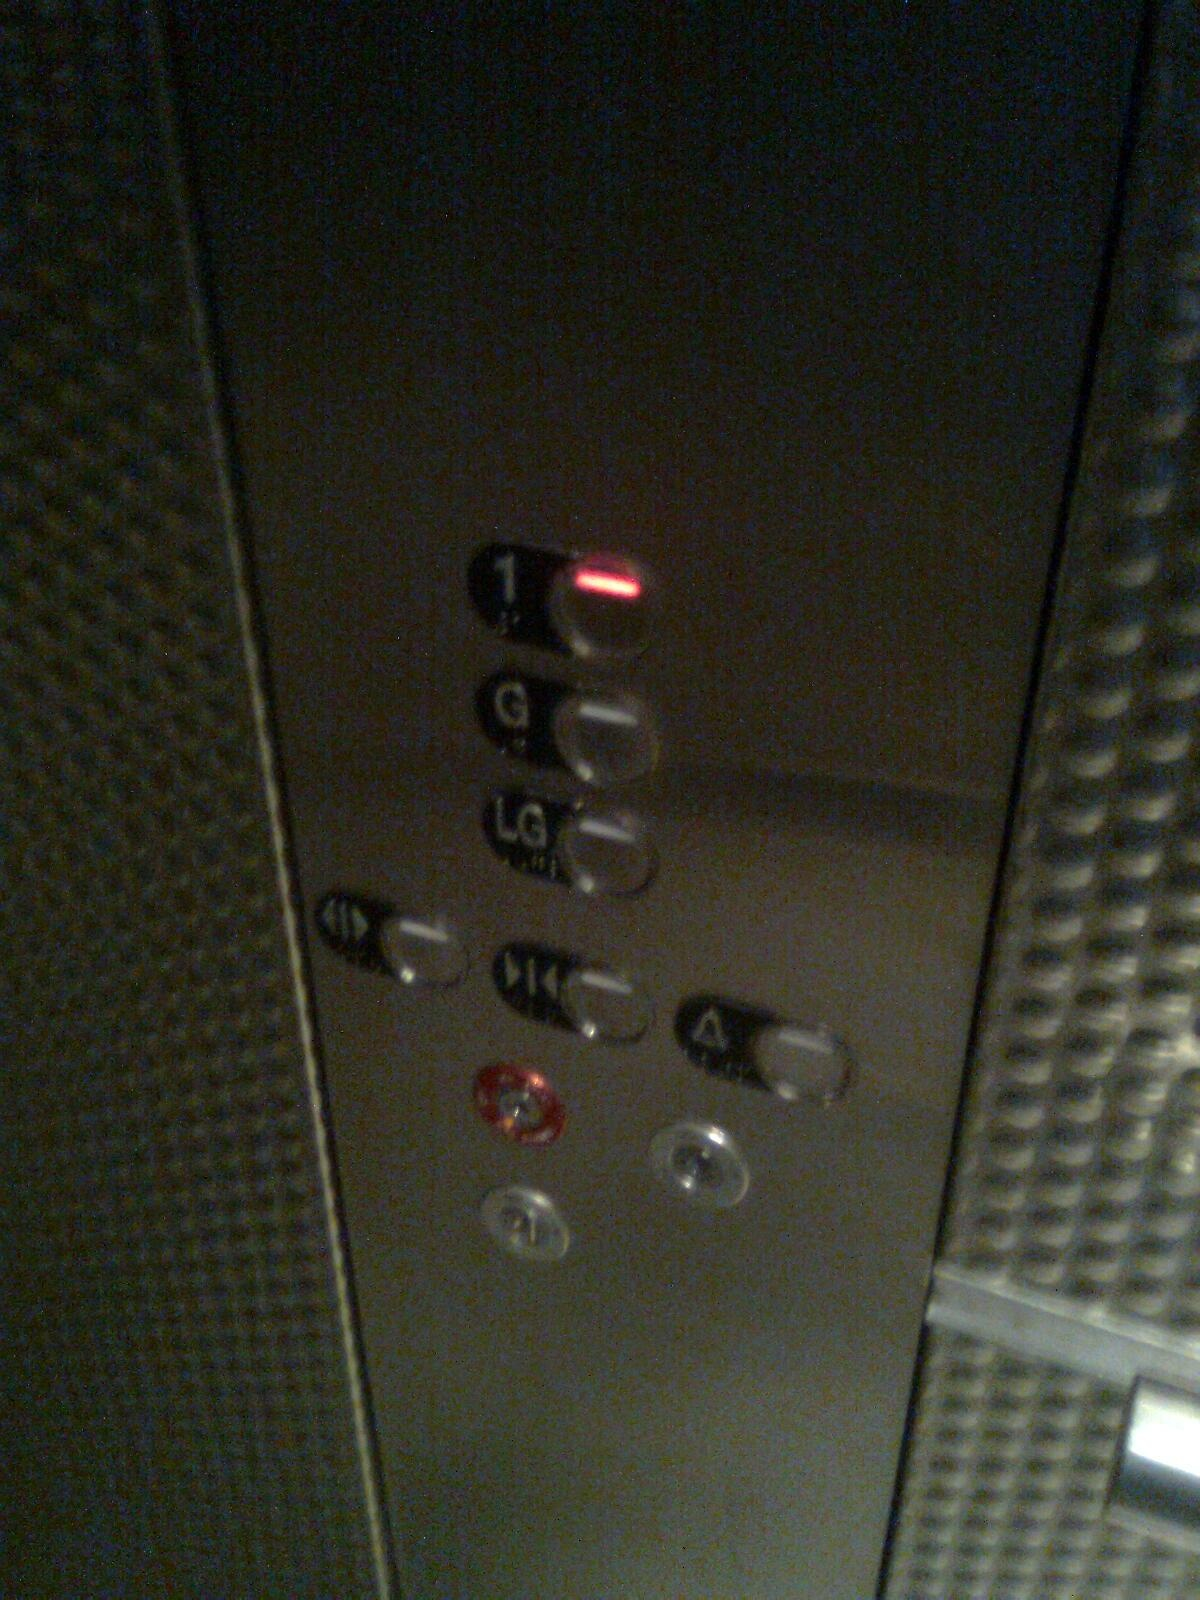1: (468, 538, 671, 669)
G: (473, 661, 668, 801)
LG: (478, 779, 662, 910)
alarm: (674, 986, 861, 1111)
close: (492, 935, 655, 1049)
keyhole: (468, 1054, 563, 1155), (647, 1120, 747, 1209), (475, 1183, 571, 1267)
open: (313, 882, 474, 1000)
